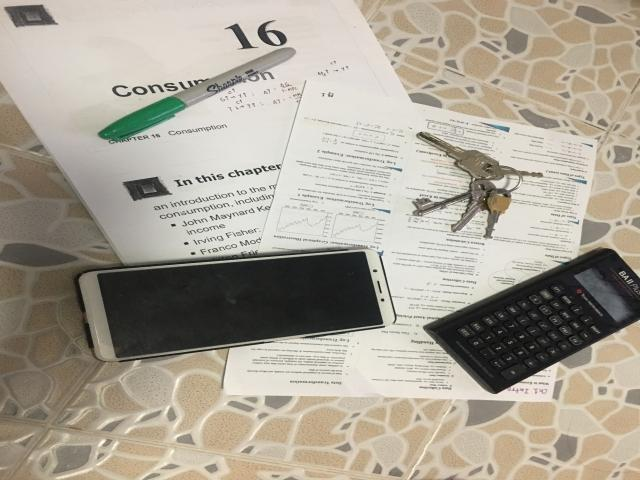Keys: (413, 132, 543, 238)
Mobile phone: (78, 249, 395, 361)
Pen: (98, 48, 297, 142)
paper: (225, 82, 597, 401)
